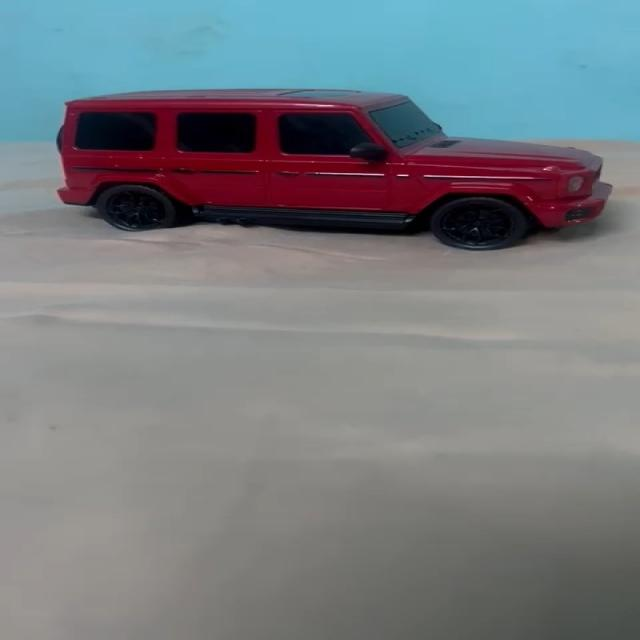light_vehicle: (39, 84, 612, 251)
